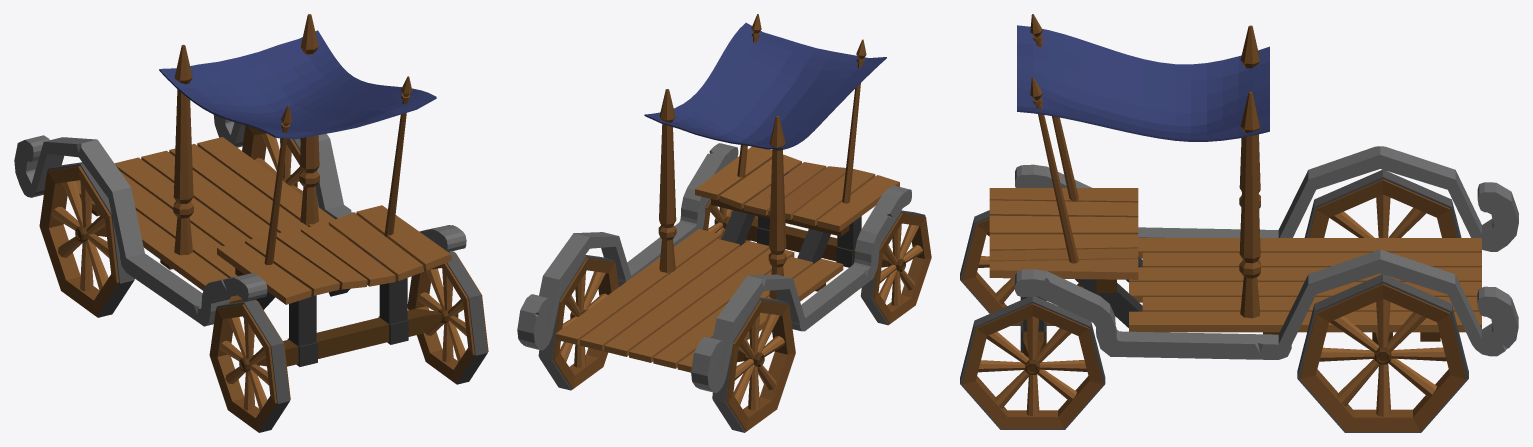
File: C_B_CarriageBlue.fbx
3 views of the same model, side by side, from view 1: azimuth 30°, elevation 25°; view 2: azimuth 150°, elevation 25°; view 3: azimuth 270°, elevation 25° (orthographic). The views are drawn at different scales.
Visible parts, largest first — view 1: C_B_CarriageBlue, C_Wheel.010, C_Wheel.007, C_Wheel.005, C_Wheel.004; view 2: C_B_CarriageBlue, C_Wheel.010, C_Wheel.007, C_Wheel.004, C_Wheel.005; view 3: C_B_CarriageBlue, C_Wheel.004, C_Wheel.005, C_Wheel.010, C_Wheel.007.
Part boxes in pixels (box(x1,y1,x2,y2)): C_B_CarriageBlue: box(14, 14, 466, 366); C_Wheel.010: box(39, 162, 134, 317); C_Wheel.007: box(209, 299, 290, 432); C_Wheel.005: box(407, 251, 488, 384); C_Wheel.004: box(242, 125, 318, 206); C_B_CarriageBlue: box(517, 14, 911, 392); C_Wheel.010: box(712, 297, 795, 432); C_Wheel.007: box(860, 210, 931, 325); C_Wheel.004: box(538, 255, 618, 390); C_Wheel.005: box(702, 198, 757, 242); C_B_CarriageBlue: box(989, 14, 1518, 359); C_Wheel.004: box(1297, 274, 1468, 432); C_Wheel.005: box(960, 296, 1105, 429); C_Wheel.010: box(1304, 169, 1461, 237); C_Wheel.007: box(960, 210, 1084, 325).
Bounding box in the file's own units: 299 × 403 × 617.
